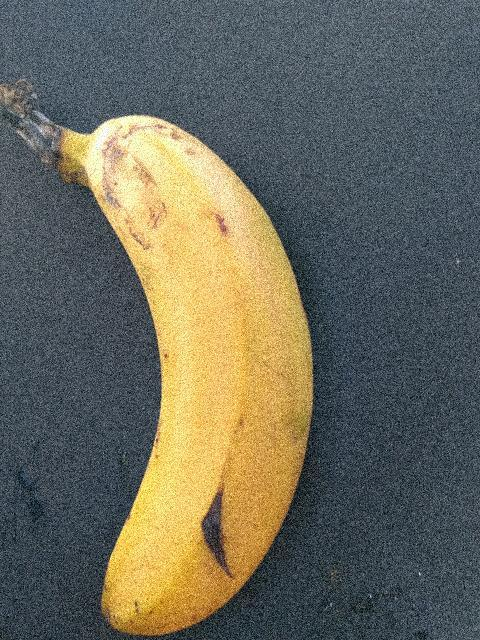ripe: (43, 95, 350, 639)
